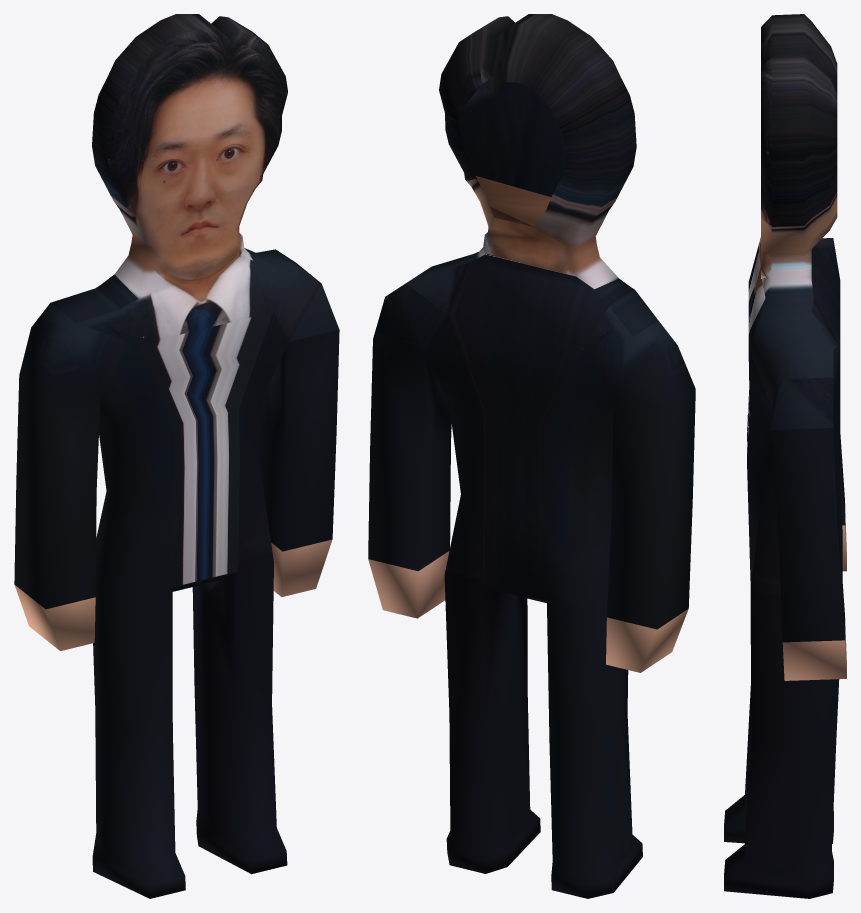
Rendered from iori.fbx.
3 renders of one model, left to right at view 1: azimuth 30°, elevation 25°; view 2: azimuth 150°, elevation 25°; view 3: azimuth 270°, elevation 25°, orthographic.
Visible parts, largest first — view 1: 平面; view 2: 平面; view 3: 平面.
Boxes of the visible parts, box(x1,y1,x2,y2) form: 平面: box(14, 14, 339, 898); 平面: box(368, 14, 695, 898); 平面: box(724, 14, 846, 898).
Size of the model in its own units: 206 by 569 by 75.53.
1 material, 1 textured.
